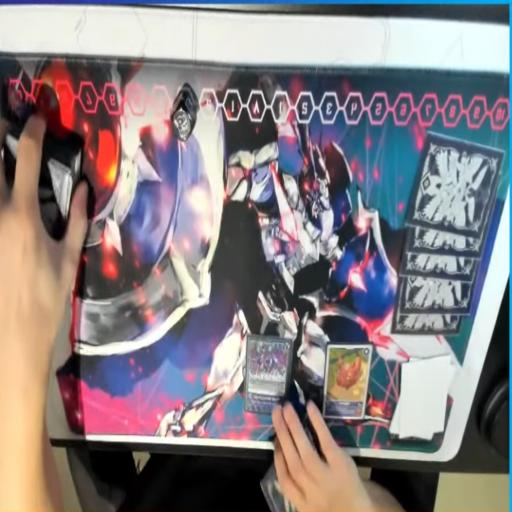card: (243, 335, 293, 417), (325, 341, 370, 421)
